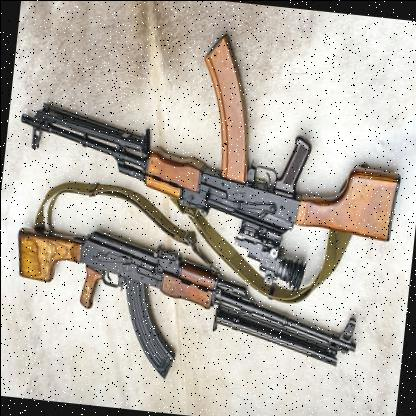rifle: (7, 10, 416, 277), (0, 186, 372, 406)
